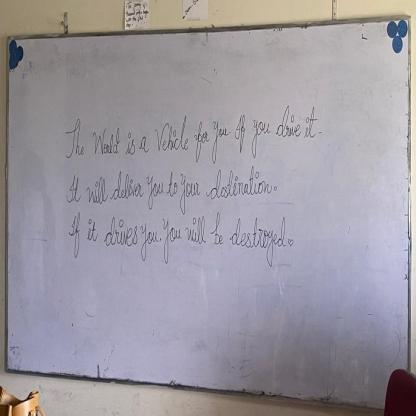Handwritten text: (64, 108, 319, 162), (64, 209, 288, 267), (62, 163, 283, 214)
Whiteboard: (6, 16, 410, 408)
